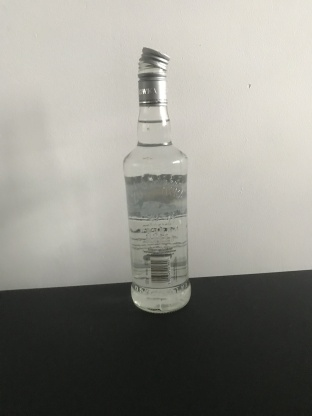nakretka: (136, 43, 171, 107)
